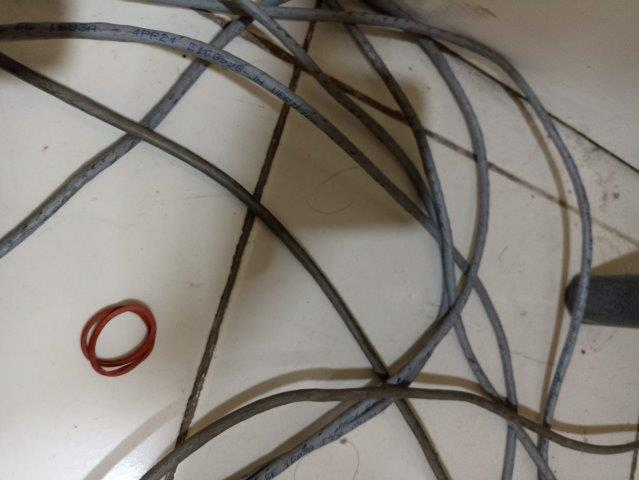karet: (79, 299, 158, 379)
